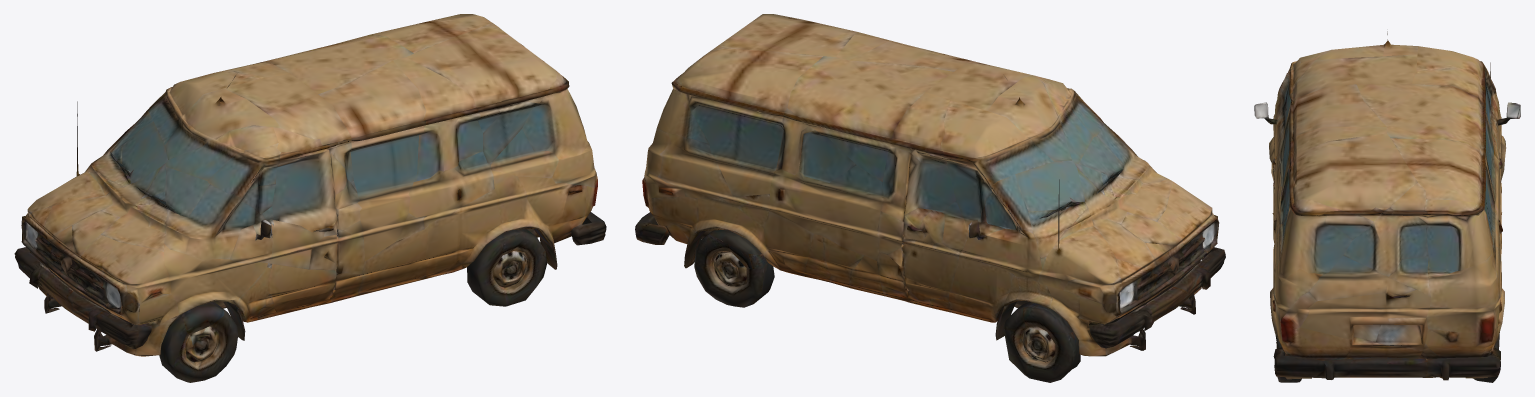
Rendered from car_minivan_light_q3.glb.
3 views of the same model, side by side, from view 1: azimuth 30°, elevation 25°; view 2: azimuth 150°, elevation 25°; view 3: azimuth 270°, elevation 25° (orthographic).
Bounding box in the file's own units: 3.66 × 1.73 × 1.72.
Materials: 1 (1 with a texture image).
